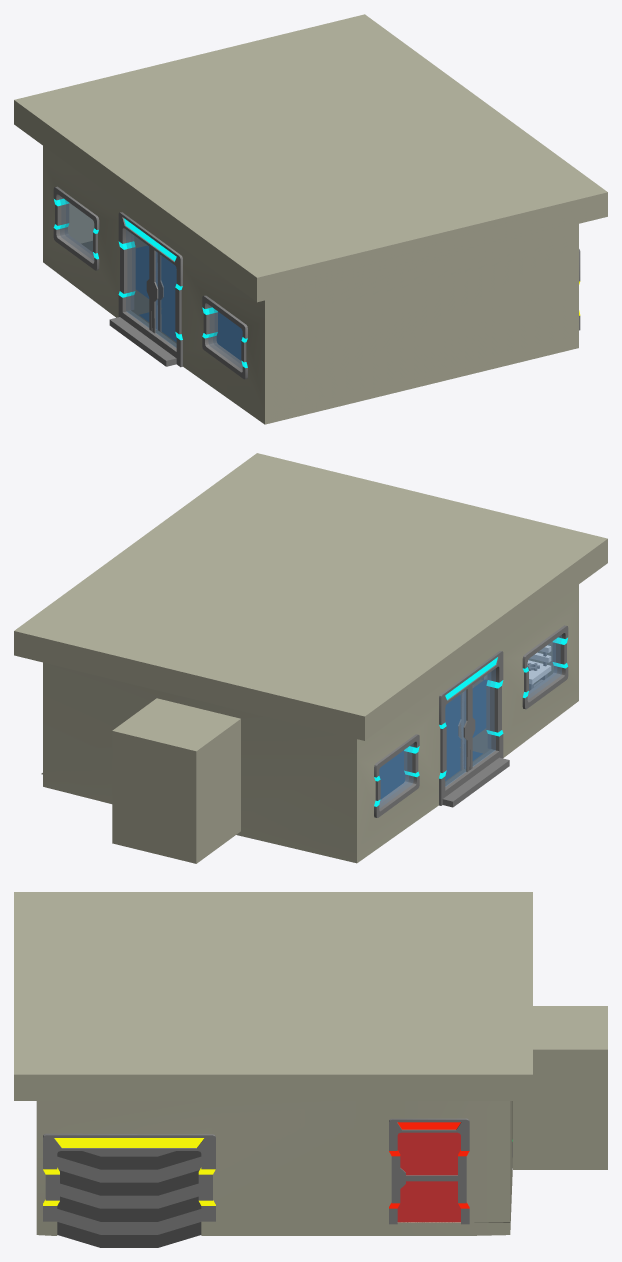
File: Garage.fbx
3 renders of one model, top to bottom at view 1: azimuth 30°, elevation 25°; view 2: azimuth 150°, elevation 25°; view 3: azimuth 270°, elevation 25°, orthographic. The views are drawn at different scales.
Parts seen in each view (by area): view 1: Ceiling, Building Wall, Door Frame, Walkway, Ground Floor, Glass Door 1, Glass Door 2, Window Frame 2, Window Frame 1, Glass Window 1, Glass Window 2; view 2: Ceiling, Building Wall, Restroom, Door Frame, Walkway, Glass Door 2, Ground Floor, Glass Door 1, Window Frame 1, Window Frame 2, Glass Window 2, Glass Window 1 (+1 smaller); view 3: Ceiling, Building Wall, Restroom, Garage Door, Exit Door, Garage Door Frame, Exit Door Frame.
Boxes of the visible parts, x1=… form: Ceiling: x1=14, y1=14, x2=607, y2=302; Building Wall: x1=43, y1=146, x2=578, y2=424; Door Frame: x1=118, y1=212, x2=182, y2=367; Walkway: x1=135, y1=245, x2=242, y2=360; Ground Floor: x1=81, y1=236, x2=176, y2=366; Glass Door 1: x1=126, y1=230, x2=157, y2=331; Glass Door 2: x1=152, y1=248, x2=176, y2=347; Window Frame 2: x1=202, y1=295, x2=247, y2=379; Window Frame 1: x1=53, y1=186, x2=99, y2=270; Glass Window 1: x1=60, y1=196, x2=93, y2=260; Glass Window 2: x1=208, y1=305, x2=242, y2=368; Ceiling: x1=14, y1=453, x2=607, y2=740; Building Wall: x1=43, y1=584, x2=578, y2=863; Restroom: x1=112, y1=698, x2=240, y2=863; Door Frame: x1=439, y1=651, x2=503, y2=805; Walkway: x1=379, y1=679, x2=487, y2=799; Glass Door 2: x1=464, y1=669, x2=495, y2=769; Ground Floor: x1=41, y1=674, x2=537, y2=807; Glass Door 1: x1=445, y1=687, x2=469, y2=786; Window Frame 1: x1=374, y1=734, x2=419, y2=817; Window Frame 2: x1=522, y1=625, x2=568, y2=709; Glass Window 2: x1=528, y1=635, x2=561, y2=699; Glass Window 1: x1=379, y1=744, x2=413, y2=807; Ceiling: x1=14, y1=892, x2=532, y2=1100; Building Wall: x1=36, y1=1101, x2=512, y2=1235; Restroom: x1=513, y1=1006, x2=607, y2=1169; Garage Door: x1=57, y1=1151, x2=201, y2=1247; Exit Door: x1=397, y1=1132, x2=460, y2=1222; Garage Door Frame: x1=43, y1=1133, x2=215, y2=1221; Exit Door Frame: x1=389, y1=1118, x2=469, y2=1224.
Bounding box in the file's own units: 15 × 7 × 20.6.
